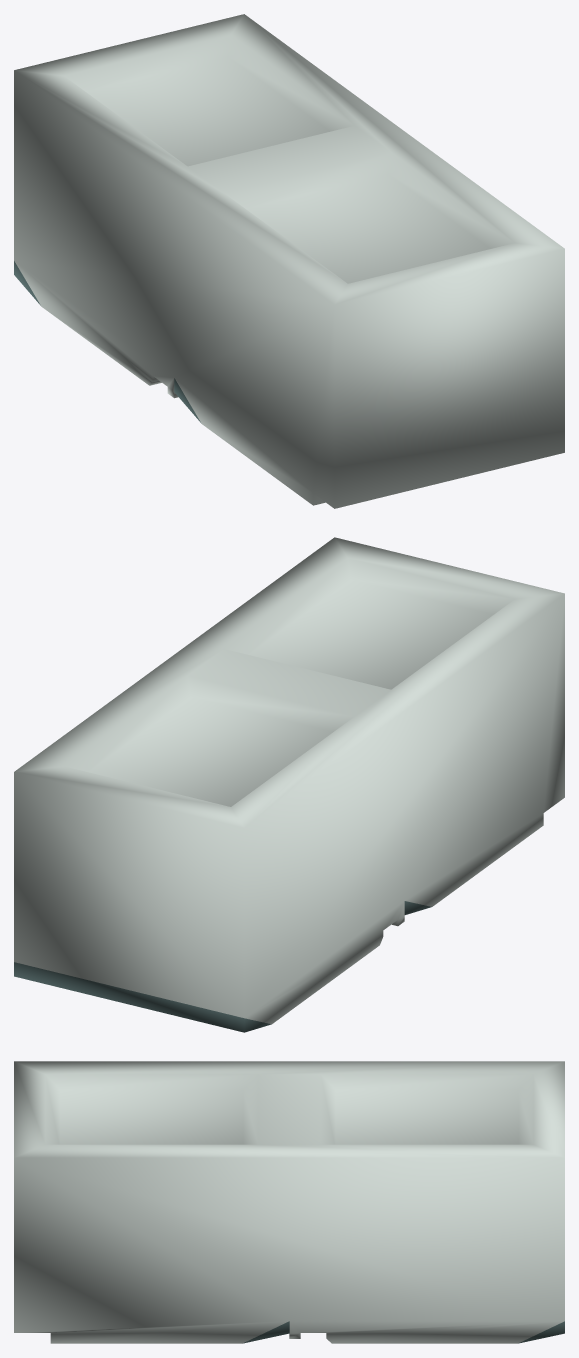
File: washerDryerStacked.obj
The picture shows the model from 3 angles, top to bottom: view 1: azimuth 30°, elevation 25°; view 2: azimuth 150°, elevation 25°; view 3: azimuth 270°, elevation 25°; orthographic projection. The views are drawn at different scales.
Parts seen in each view (by area): view 1: washerDryerStacked; view 2: washerDryerStacked; view 3: washerDryerStacked.
Part boxes in pixels (x1=…): washerDryerStacked: x1=14, y1=14, x2=564, y2=508; washerDryerStacked: x1=14, y1=537, x2=564, y2=1032; washerDryerStacked: x1=14, y1=1061, x2=564, y2=1343.
Size of the model in its own units: 0.39 by 0.39 by 0.94.
